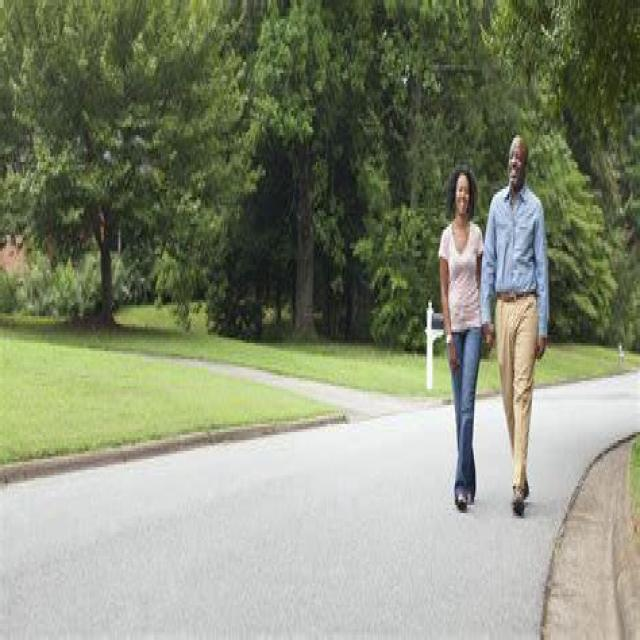face: (506, 135, 528, 192), (452, 173, 474, 219)
